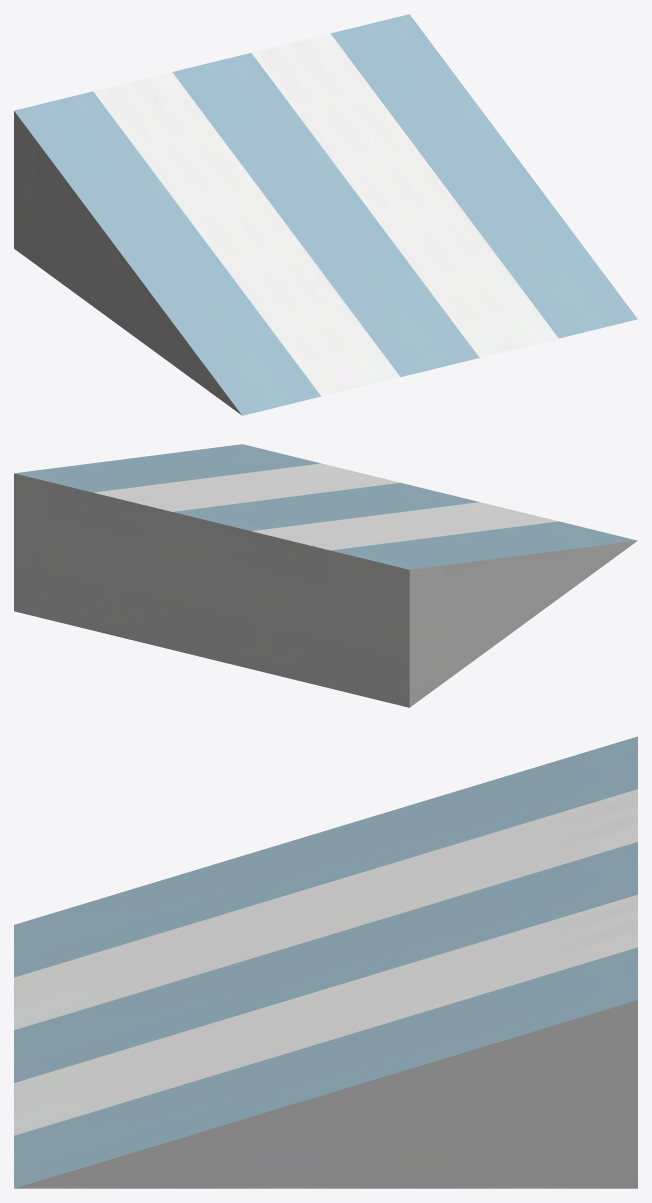
3 views of the same model, one above another, from view 1: azimuth 30°, elevation 25°; view 2: azimuth 150°, elevation 25°; view 3: azimuth 270°, elevation 25° (orthographic). The views are drawn at different scales.
Visible parts, largest first — view 1: Cube_02; view 2: Cube_02; view 3: Cube_02.
Part boxes in pixels (box(x1,y1,x2,y2)): Cube_02: box(14, 14, 637, 415); Cube_02: box(14, 444, 637, 707); Cube_02: box(14, 736, 637, 1188).
Size of the model in its own units: 24 by 8 by 24.
Materials: 1 (1 with a texture image).
